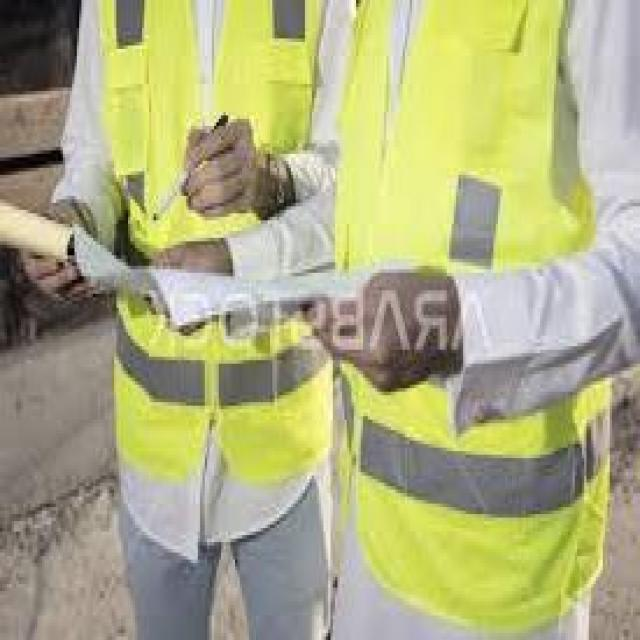Reflective-Jacket: (305, 3, 640, 630), (75, 7, 352, 276), (95, 266, 338, 542)
